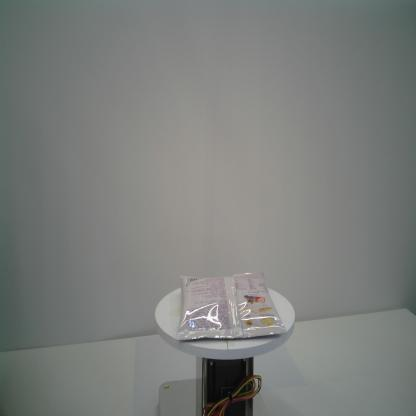Instant Drink: (174, 270, 288, 342)
